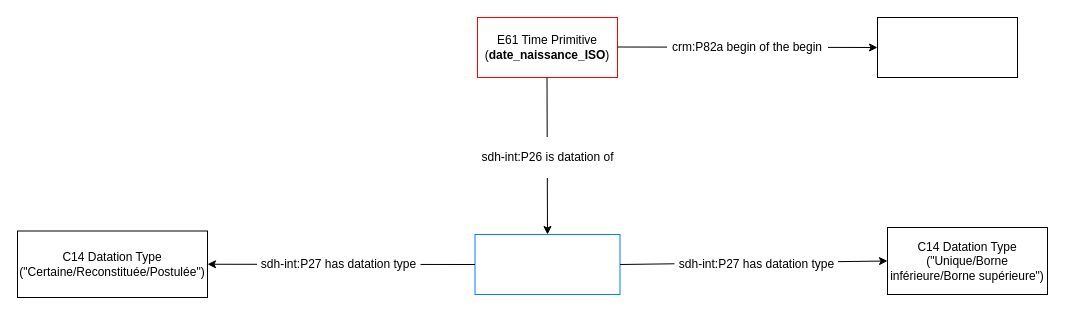
Some shapes in this 1065 by 315 pixel diagram are drawn without their labels. Here are the shapes that lost their labels. From the top down, the centre of each, then its label:
[947,47]: E52 Time-Span ("Âge")
[547,264]: C13 Propositional Datation ("Date de naissance")
